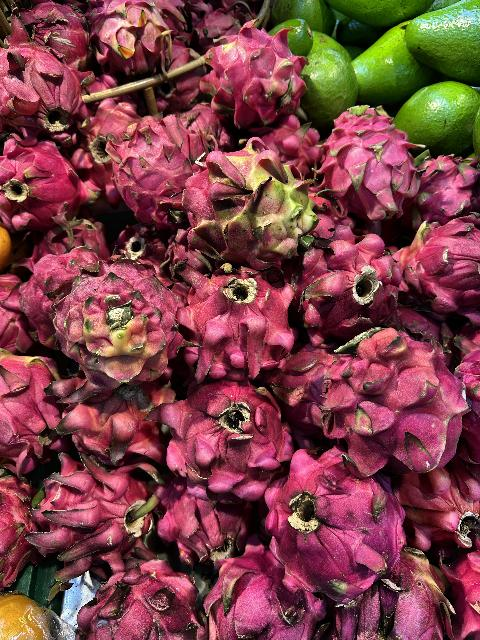buah-naga-belum-matang: (175, 144, 322, 282), (42, 274, 184, 384), (202, 28, 308, 128), (400, 218, 480, 318), (84, 0, 166, 81)
buah-naga-matang: (258, 457, 414, 613), (316, 338, 469, 472), (24, 463, 164, 569), (98, 110, 216, 232), (318, 100, 424, 234), (158, 393, 292, 495), (183, 274, 293, 390), (0, 126, 102, 238), (45, 370, 155, 470), (298, 240, 404, 342), (334, 548, 448, 640), (208, 550, 324, 640), (77, 562, 210, 640), (0, 28, 82, 152)
